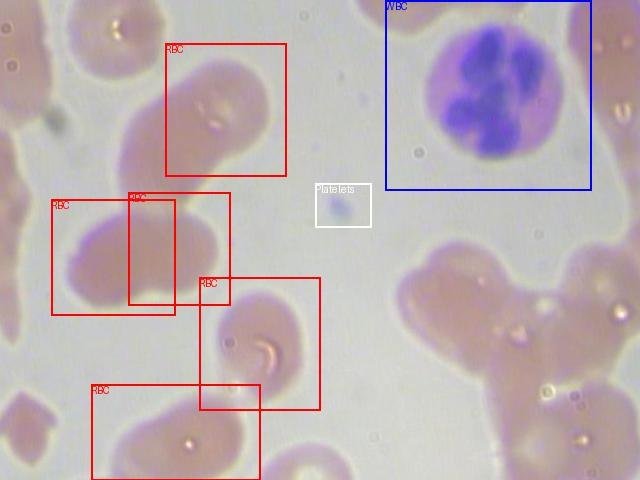Platelets: (315, 183, 371, 227)
RBC: (91, 384, 260, 480), (199, 277, 320, 410), (165, 43, 286, 176), (51, 199, 175, 315), (128, 192, 230, 305)
WBC: (385, 0, 591, 190)
